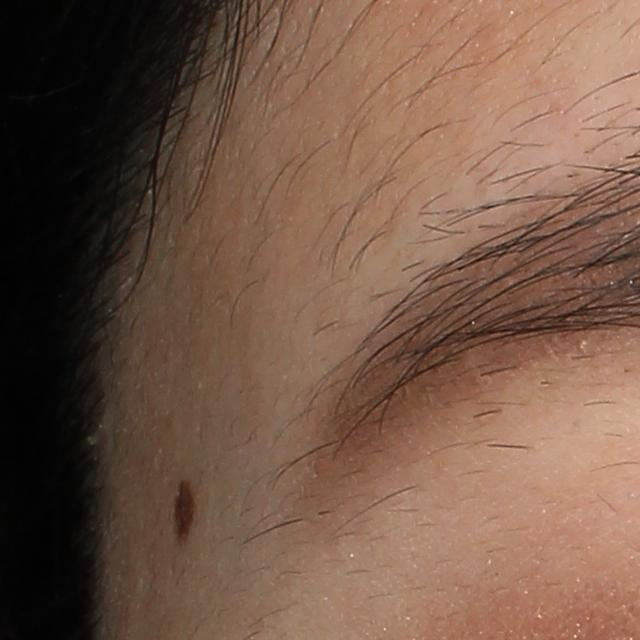nevus: (170, 478, 199, 546)
